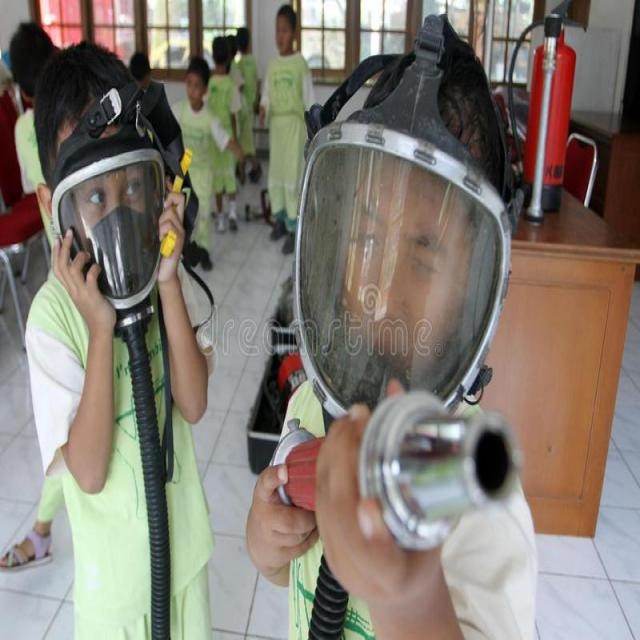fire_extinguisher: (492, 0, 590, 231)
